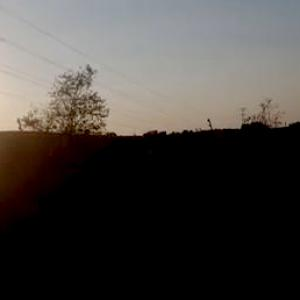follow: (149, 153, 213, 299)
